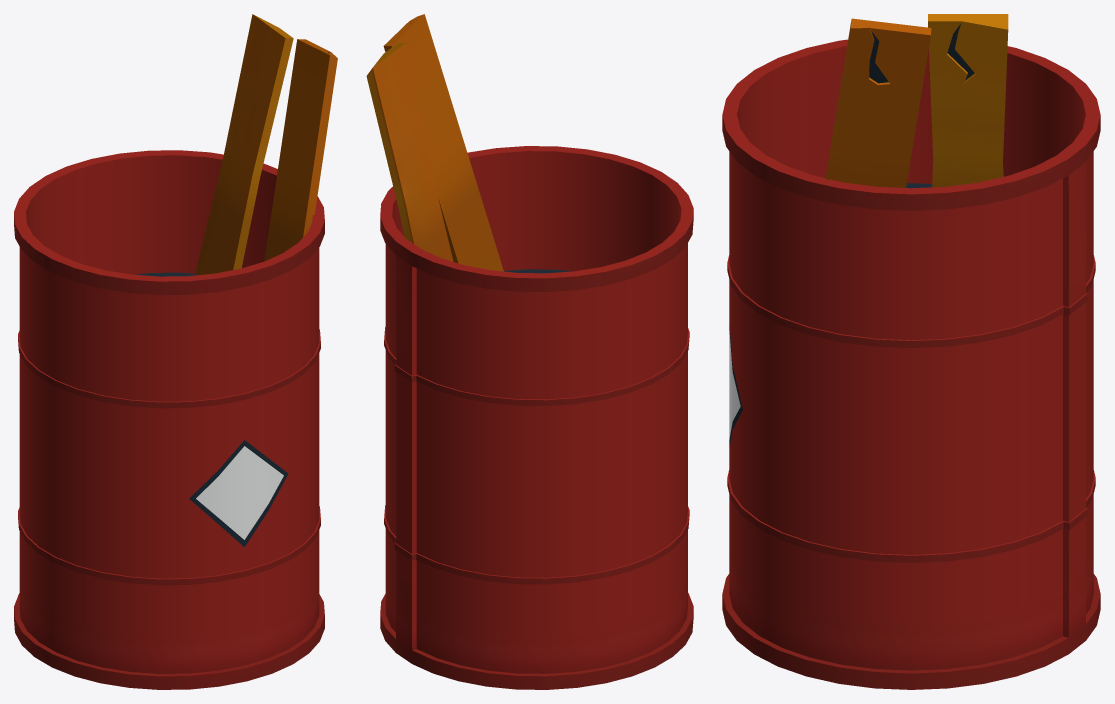
File: Latao.glb
The picture shows the model from 3 angles, left to right: view 1: azimuth 30°, elevation 25°; view 2: azimuth 150°, elevation 25°; view 3: azimuth 270°, elevation 25°; orthographic projection. The views are drawn at different scales.
Visible parts, largest first — view 1: Latao; view 2: Latao; view 3: Latao.
Part boxes in pixels (x1,y1,x2,y2): Latao: (14,14,337,689); Latao: (366,14,693,689); Latao: (722,14,1100,689).
Bounding box in the file's own units: 2.14 × 4.07 × 2.07.
Materials: 1 (1 with a texture image).
